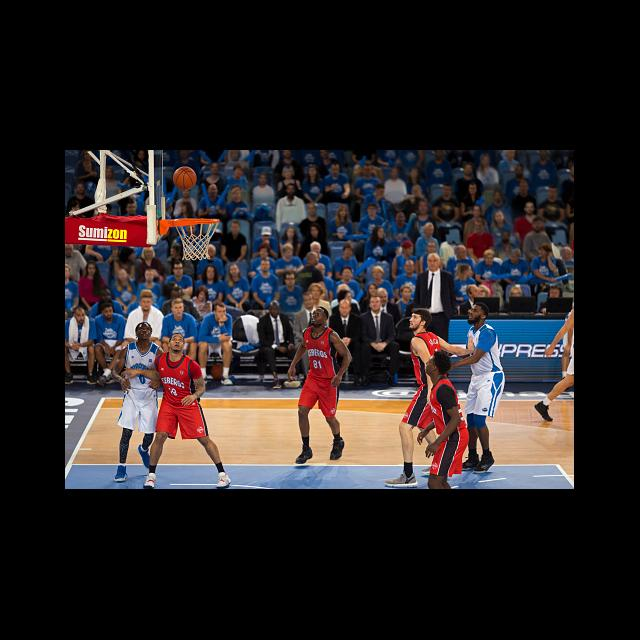basketball: (174, 167, 197, 190), (212, 365, 225, 380)
hoop: (174, 219, 218, 260)
